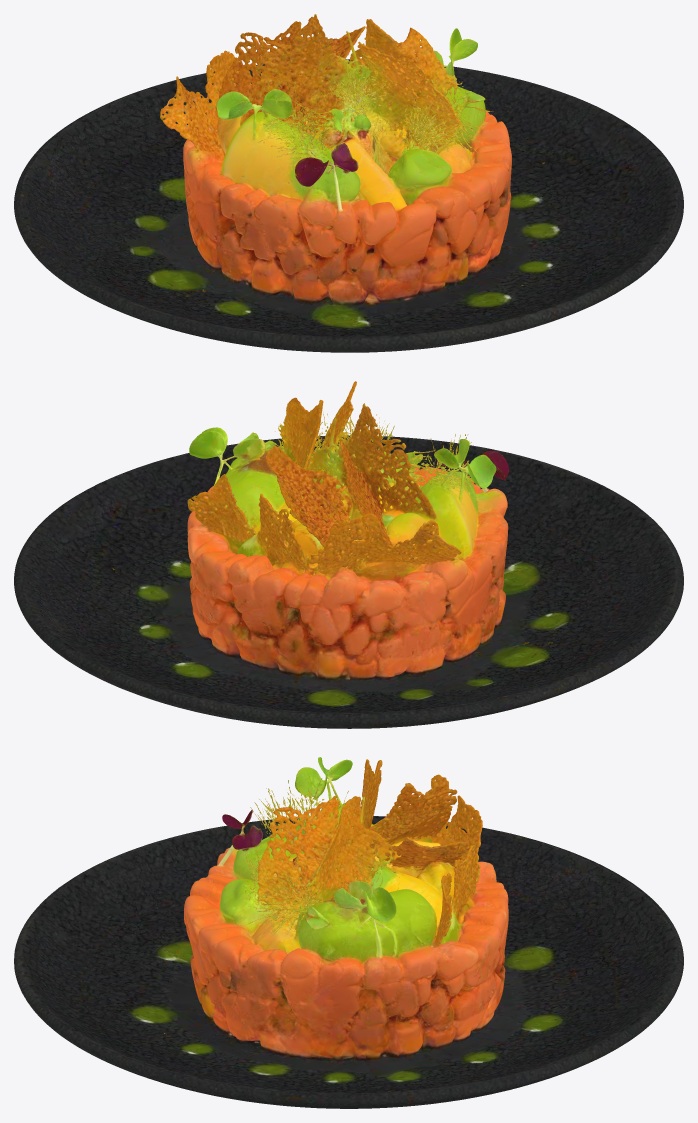
File: tartare-saumon-meshopt-4b0b610c.glb
The picture shows the model from 3 angles, top to bottom: view 1: azimuth 30°, elevation 25°; view 2: azimuth 150°, elevation 25°; view 3: azimuth 270°, elevation 25°; orthographic projection.
Size of the model in its own units: 1.9 by 0.7538 by 1.9.
Materials: 1 (1 with a texture image).
